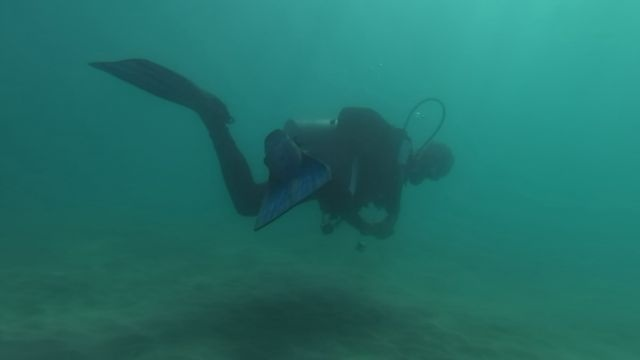Diver: (70, 42, 466, 253)
